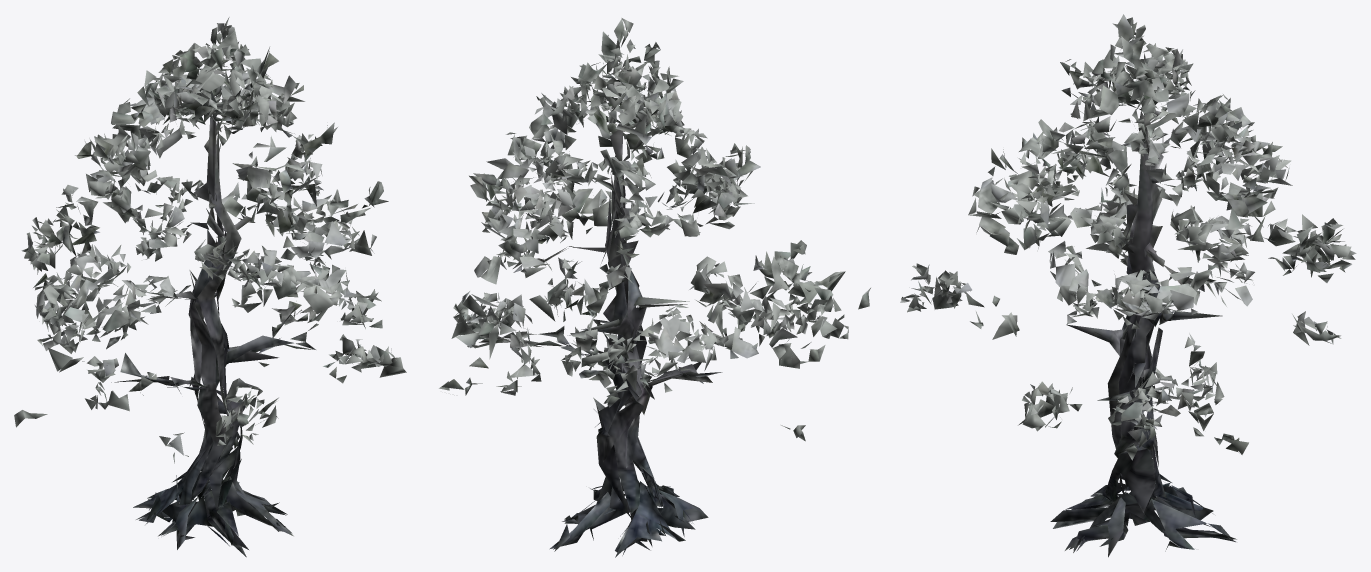
File: pinheiro_cinza_jovem.glb
The picture shows the model from 3 angles, left to right: view 1: azimuth 30°, elevation 25°; view 2: azimuth 150°, elevation 25°; view 3: azimuth 270°, elevation 25°; orthographic projection. The views are drawn at different scales.
Parts seen in each view (by area): view 1: geometry_0; view 2: geometry_0; view 3: geometry_0.
Boxes of the visible parts, x1,y1,x2,y2 form: geometry_0: (14,17,406,557); geometry_0: (439,18,870,557); geometry_0: (900,14,1356,557).
Bounding box in the file's own units: 0.735 × 1 × 0.7828.
Materials: 1 (1 with a texture image).
